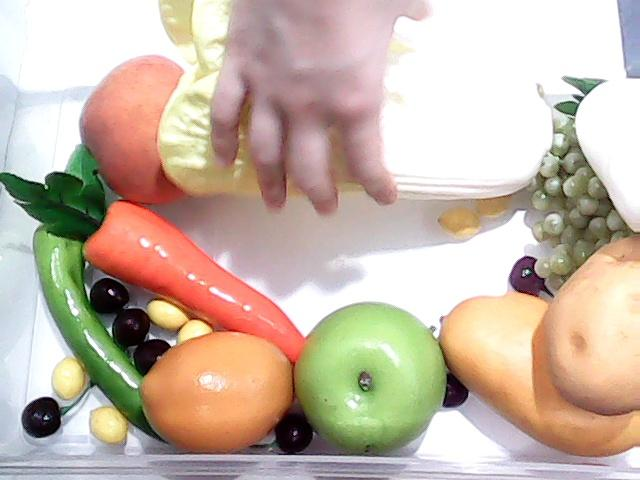apple: (287, 298, 449, 458)
carrot: (1, 147, 308, 364)
grape: (509, 139, 623, 235)
lemon: (133, 323, 314, 453)
mango: (438, 296, 640, 460)
napa cabbage: (150, 0, 552, 212)
peach: (78, 52, 212, 204)
pepper: (22, 157, 194, 447)
potato: (548, 234, 640, 414)
radish: (554, 74, 640, 232)
